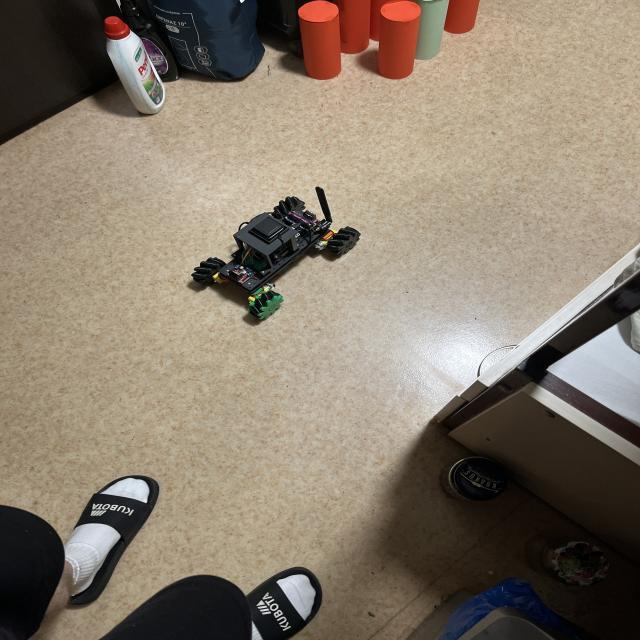robot: (192, 187, 360, 320)
